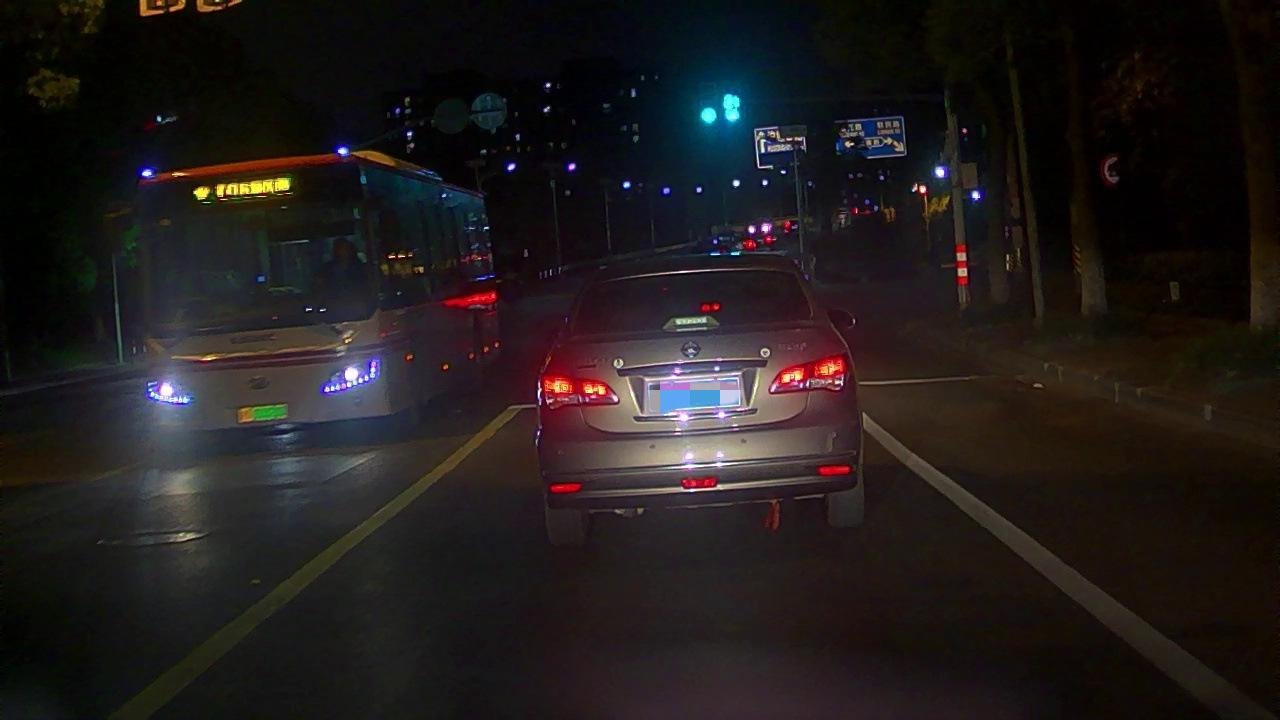traffic_light: (719, 91, 745, 125), (694, 103, 721, 129)
